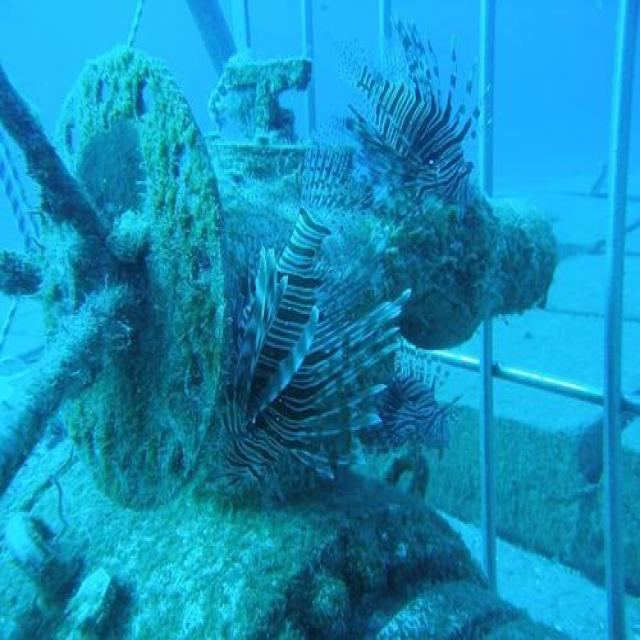Aslan Baligi: (203, 183, 353, 501), (336, 6, 492, 228), (365, 338, 459, 482)
